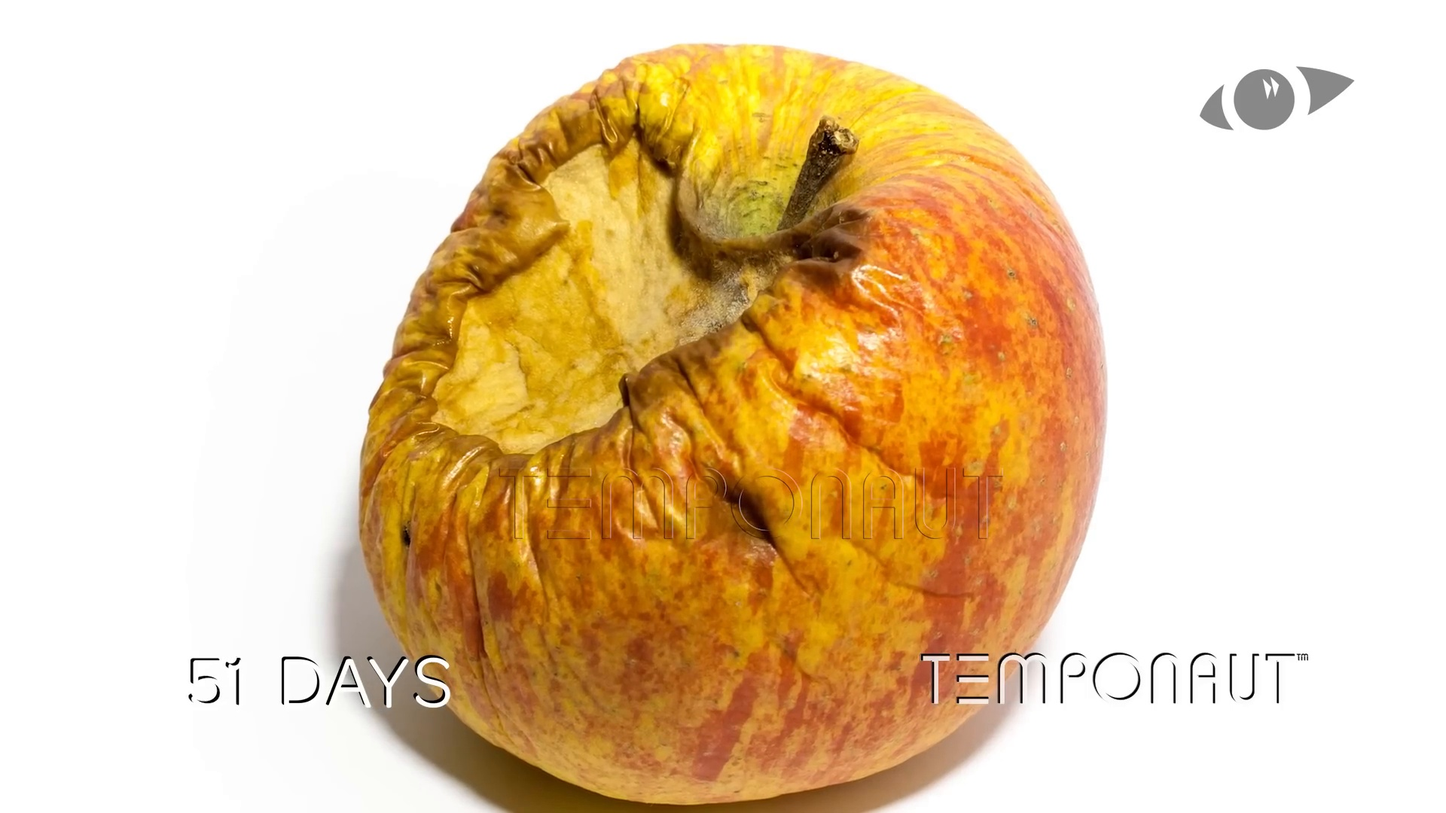apple_rotten: (358, 44, 1107, 801)
